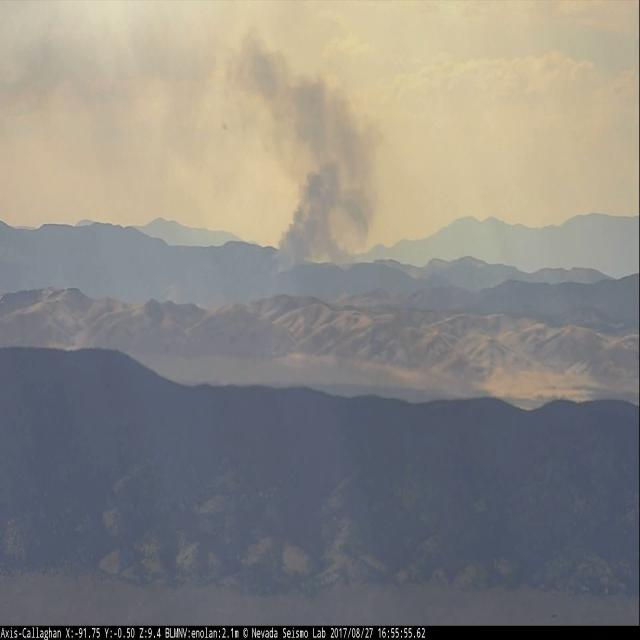smoke: (235, 35, 372, 274)
